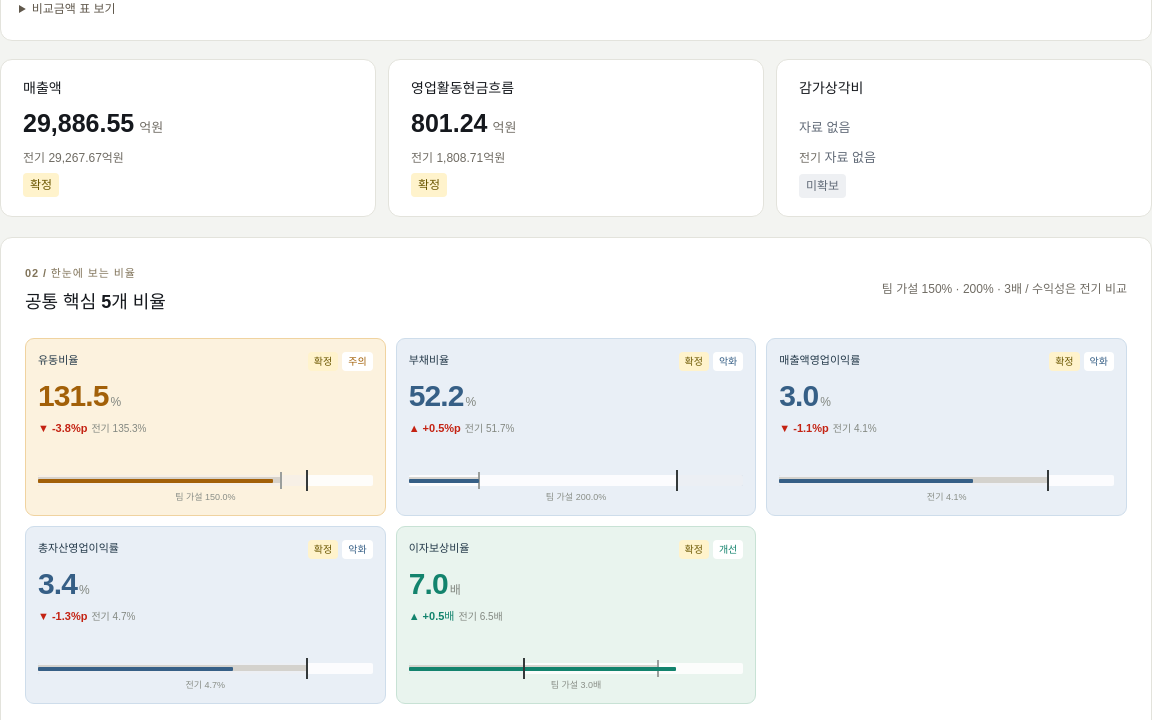
Scenario: uses server assessments and authorized reference lines on real financial results
(page scrolled)
Expected: the text "주의" is shown, [342,352,373,371]
Expected: the picture named "팀 가설 150.0%" is shown, [38,475,373,486]
Click the button "유동비율". click: click(58, 360)
box: [38,352,78,369]
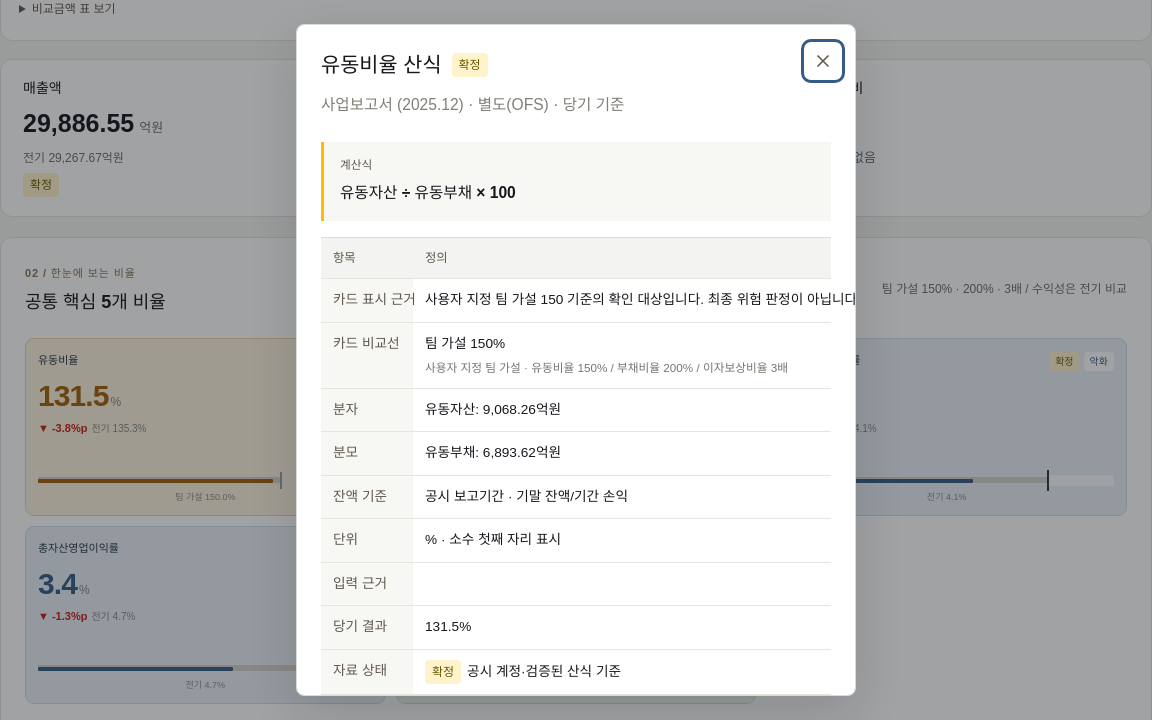
Expected: the dialog shows "사용자 지정 팀 가설", [425,292,861,307]
